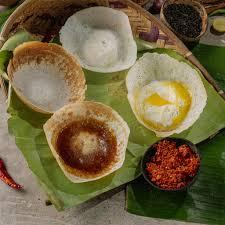Hoppers: (5, 42, 129, 195), (47, 1, 147, 80)
Lunu sambol: (138, 132, 214, 205)
